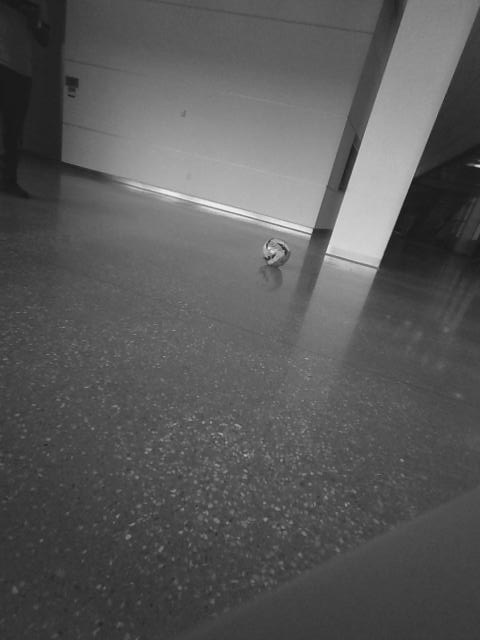ball: (261, 235, 291, 267)
